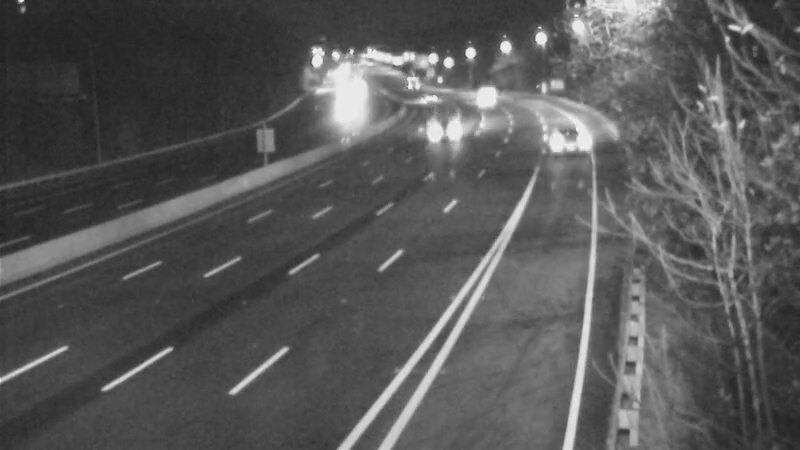vehicle: (383, 56, 433, 106), (463, 65, 513, 115), (461, 73, 511, 123), (534, 117, 584, 167), (415, 107, 465, 157), (318, 82, 368, 132)
